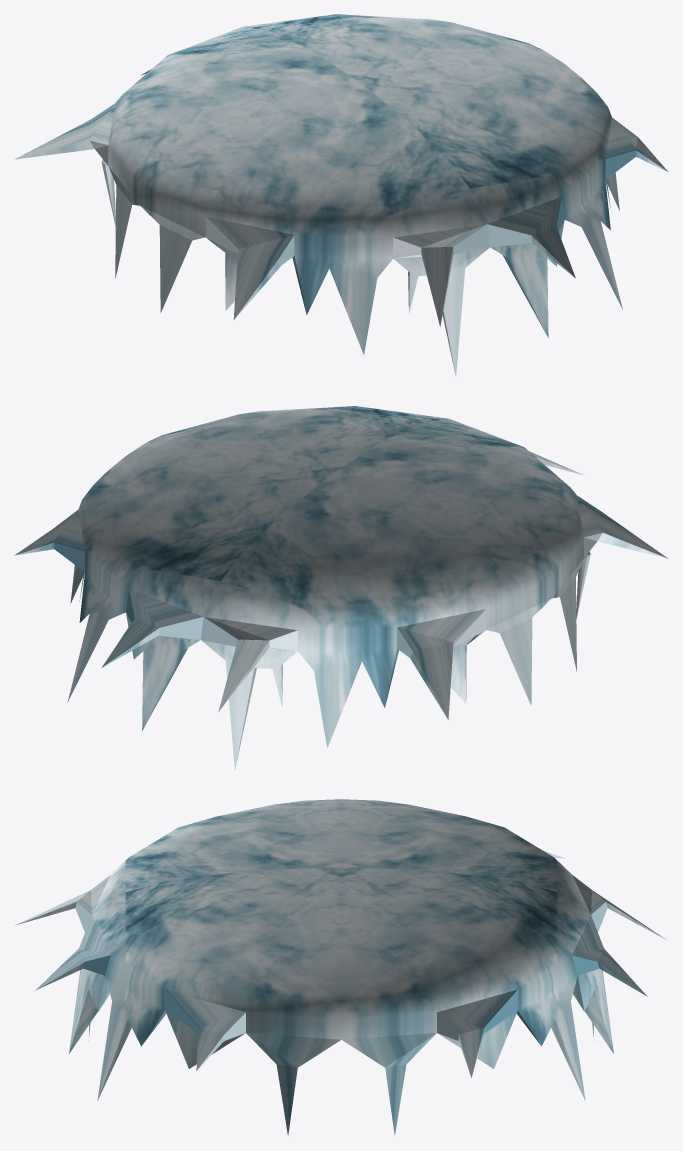
File: captainamerica_shieldfrost.glb
3 renders of one model, top to bottom at view 1: azimuth 30°, elevation 25°; view 2: azimuth 150°, elevation 25°; view 3: azimuth 270°, elevation 25°, orthographic. The views are drawn at different scales.
Visible parts, largest first — view 1: captainamerica_shieldfrost_0; view 2: captainamerica_shieldfrost_0; view 3: captainamerica_shieldfrost_0.
Part boxes in pixels (x1,y1,x2,y2): captainamerica_shieldfrost_0: (14,14,668,376); captainamerica_shieldfrost_0: (14,406,668,769); captainamerica_shieldfrost_0: (15,799,666,1135).
Bounding box in the file's own units: 35.23 × 13.5 × 42.24.
1 material, 1 textured.
